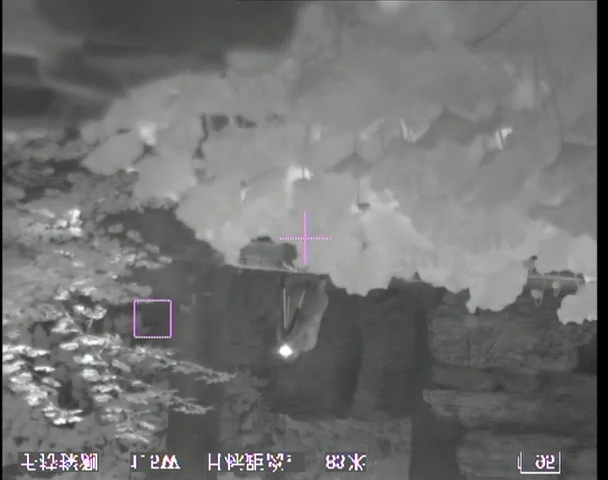my: (278, 343, 295, 359)
